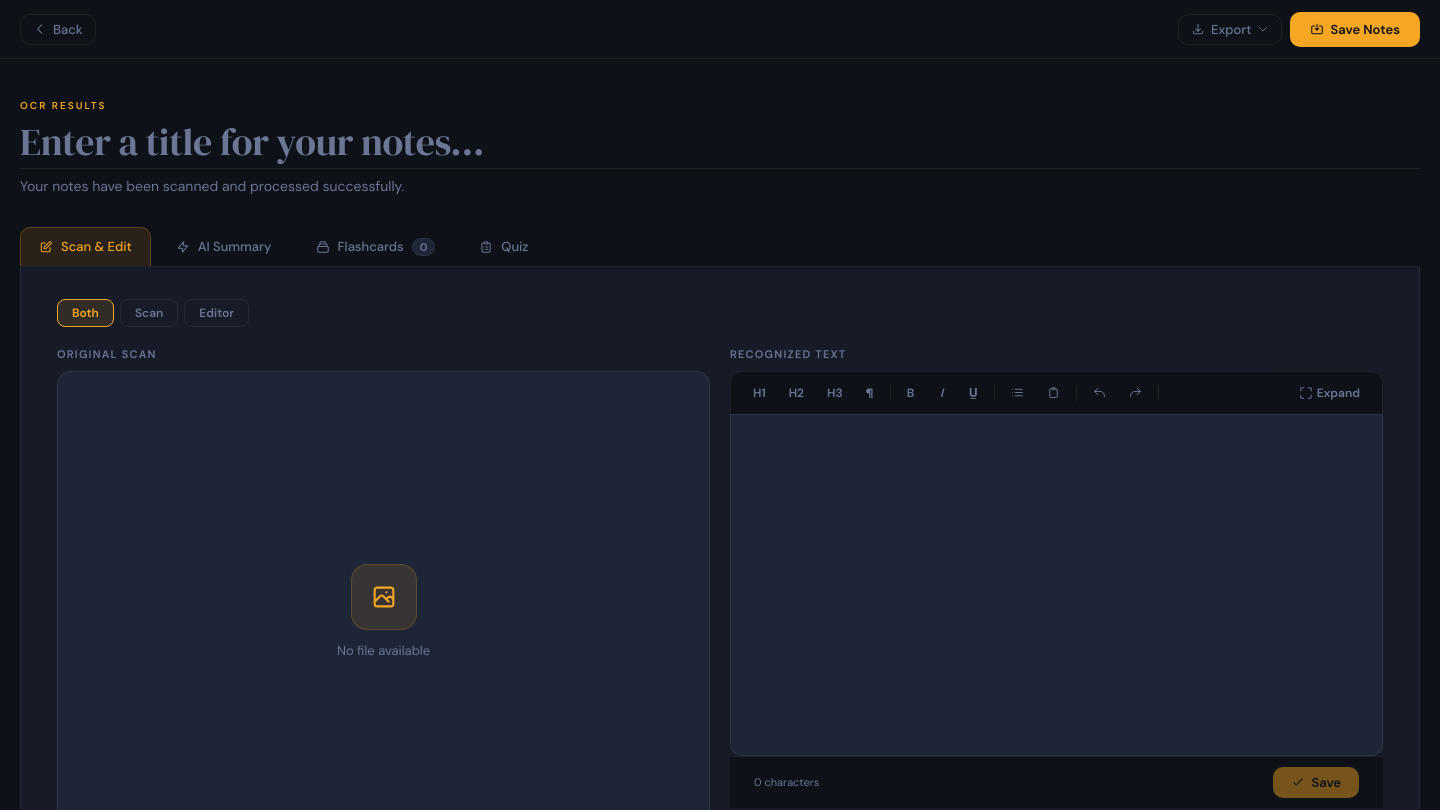
Test: ResultsPage › Tab switching › switches to AI Summary tab
Click the button "AI Summary" at (224, 247), box [157,227,290,267]
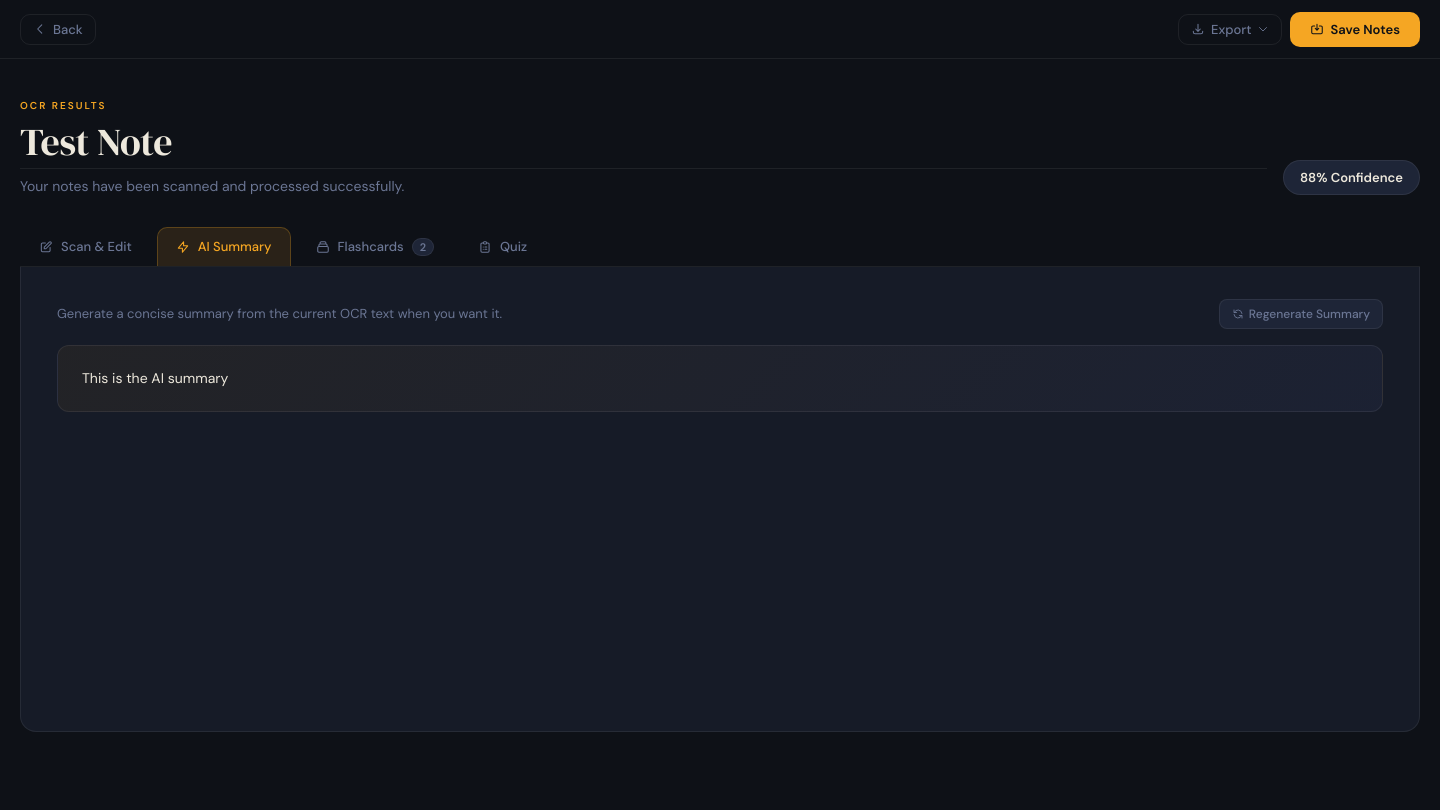
Now the button "Regenerate Summary" is shown, box [1219,299,1383,329]
